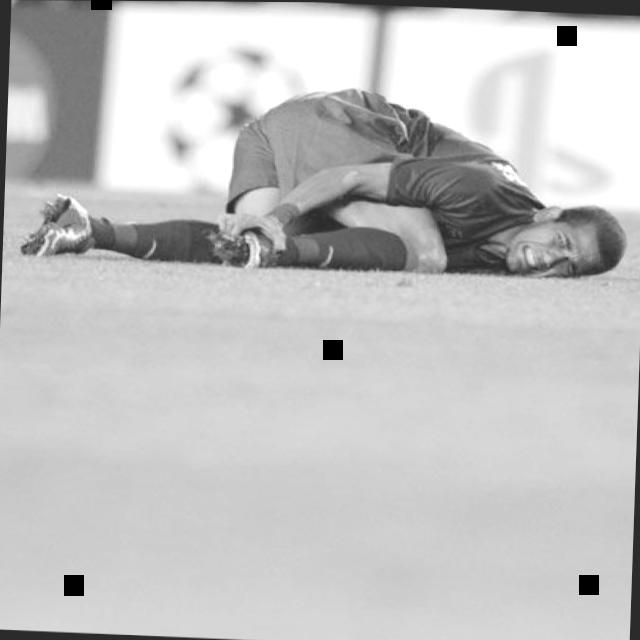Fall-Detected: (30, 53, 631, 294)
